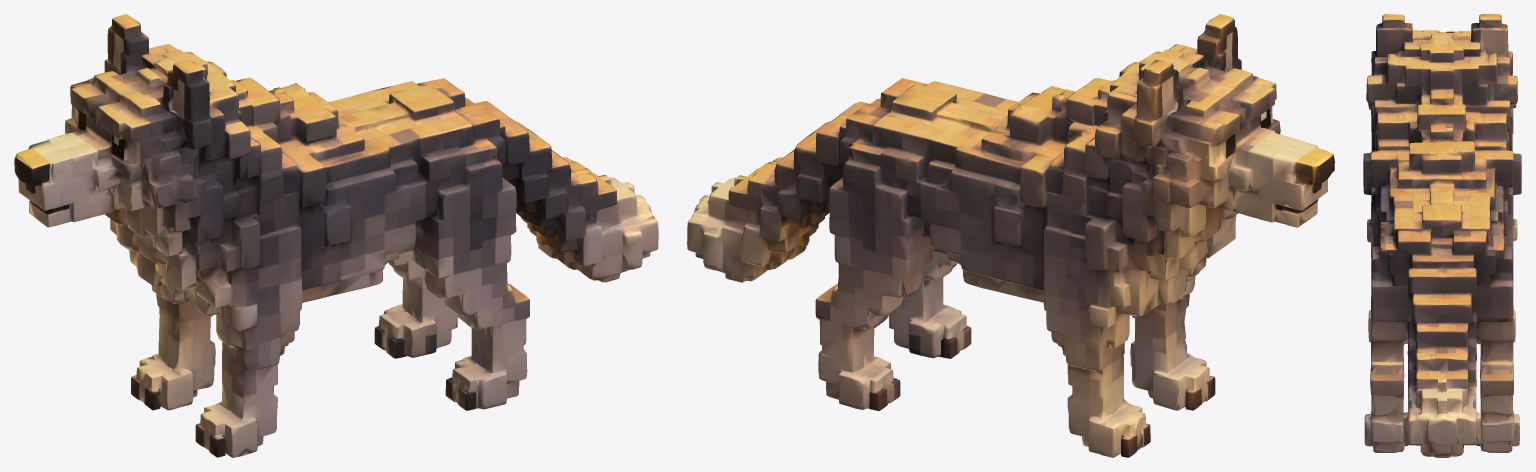
The model's file is ark-wolf.glb.
3 views of the same model, side by side, from view 1: azimuth 30°, elevation 25°; view 2: azimuth 150°, elevation 25°; view 3: azimuth 270°, elevation 25° (orthographic). The views are drawn at different scales.
Parts seen in each view (by area): view 1: tripo_node_5f417521-5072-4c0e-8332-fdaeb6fb63b7; view 2: tripo_node_5f417521-5072-4c0e-8332-fdaeb6fb63b7; view 3: tripo_node_5f417521-5072-4c0e-8332-fdaeb6fb63b7.
Part boxes in pixels (x1,y1,x2,y2): tripo_node_5f417521-5072-4c0e-8332-fdaeb6fb63b7: (14,14,658,457); tripo_node_5f417521-5072-4c0e-8332-fdaeb6fb63b7: (687,14,1334,457); tripo_node_5f417521-5072-4c0e-8332-fdaeb6fb63b7: (1363,14,1521,457).
Size of the model in its own units: 0.9803 by 0.6017 by 0.2748.
1 material, 1 textured.
